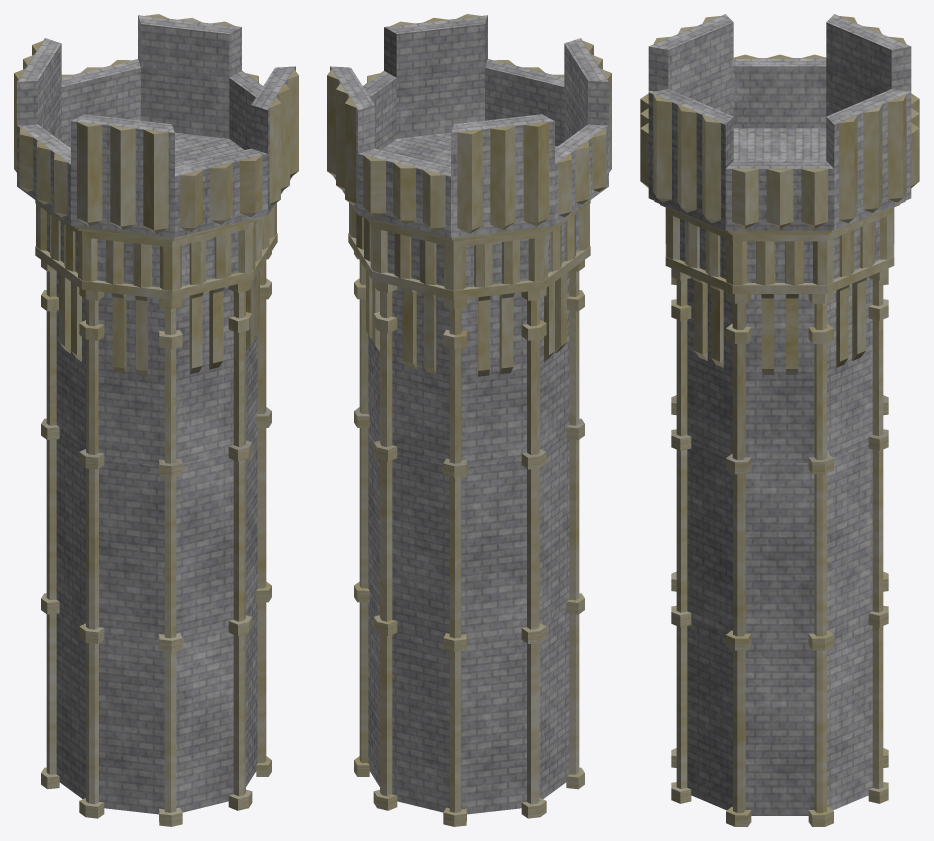
Rendered from WallPillar.obj.
3 renders of one model, left to right at view 1: azimuth 30°, elevation 25°; view 2: azimuth 150°, elevation 25°; view 3: azimuth 270°, elevation 25°, orthographic.
Visible parts, largest first — view 1: 円柱.002_円柱.025; view 2: 円柱.002_円柱.025; view 3: 円柱.002_円柱.025.
Part boxes in pixels (x1,y1,x2,y2): 円柱.002_円柱.025: (14,14,298,826); 円柱.002_円柱.025: (327,14,611,826); 円柱.002_円柱.025: (640,14,919,826).
Bounding box in the file's own units: 5.74 × 16.13 × 5.74.
Materials: 1 (1 with a texture image).
